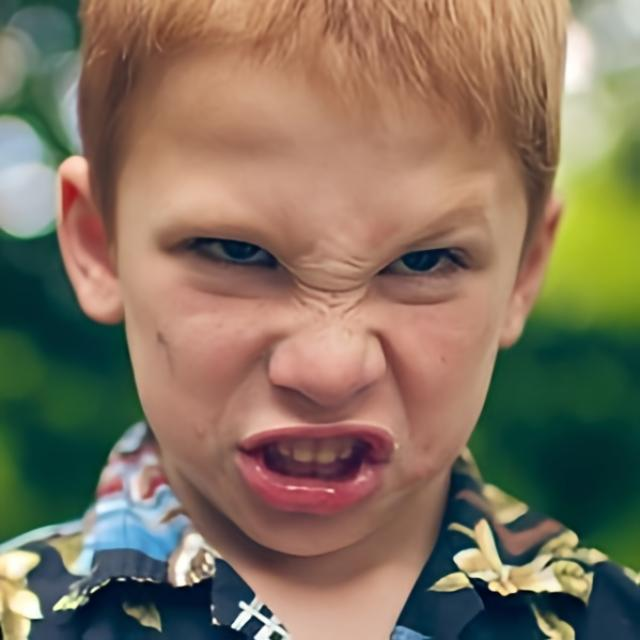anger: (123, 33, 510, 569)
